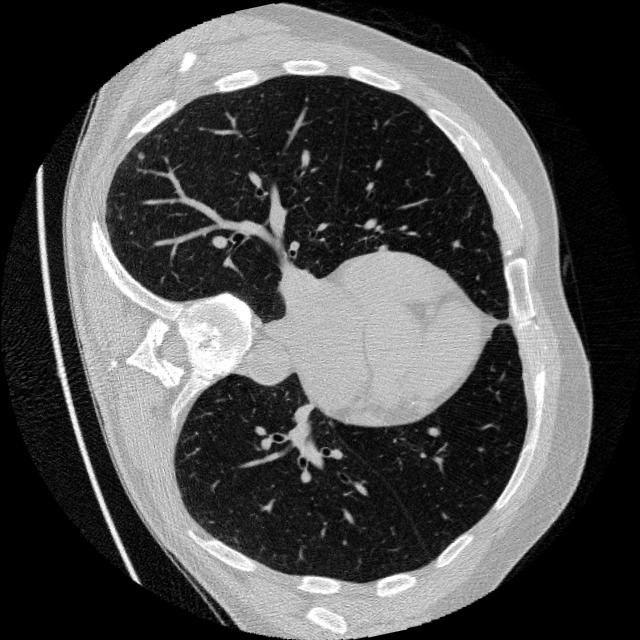nodule: (130, 143, 151, 164)
